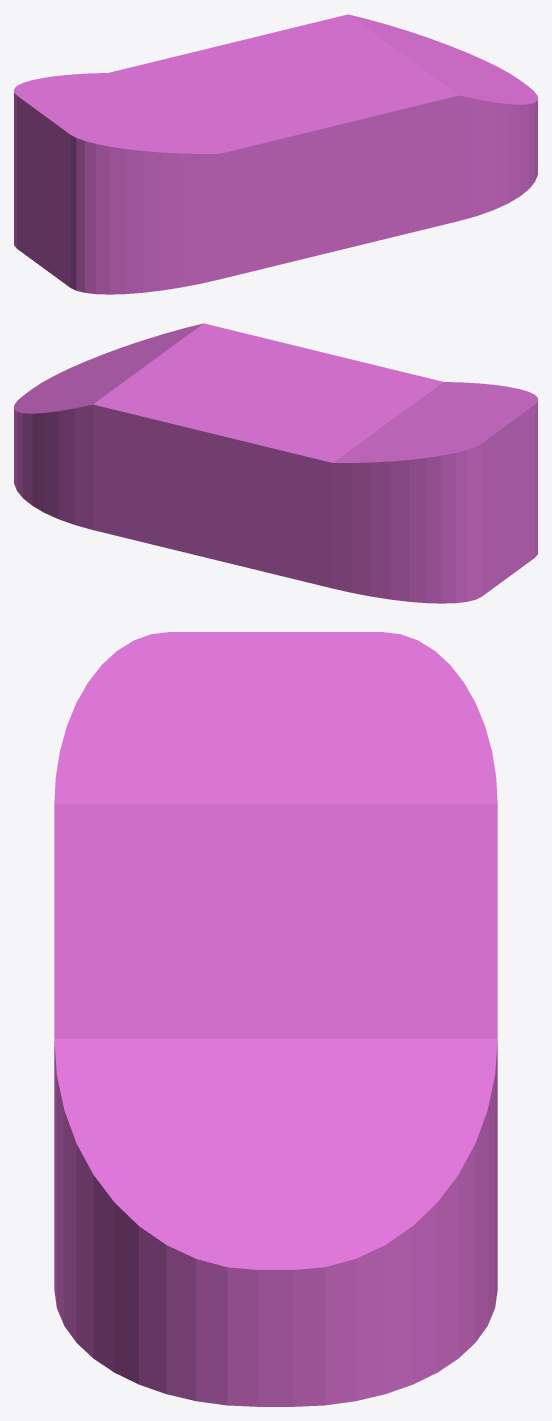
Rendered from body_v2.dae.
The picture shows the model from 3 angles, top to bottom: view 1: azimuth 30°, elevation 25°; view 2: azimuth 150°, elevation 25°; view 3: azimuth 270°, elevation 25°; orthographic projection. The views are drawn at different scales.
Visible parts, largest first — view 1: Cube; view 2: Cube; view 3: Cube.
Part boxes in pixels (x1=…): Cube: x1=14, y1=14, x2=537, y2=294; Cube: x1=14, y1=323, x2=537, y2=603; Cube: x1=54, y1=632, x2=497, y2=1406.
Size of the model in its own units: 0.2 by 0.08 by 0.061.
